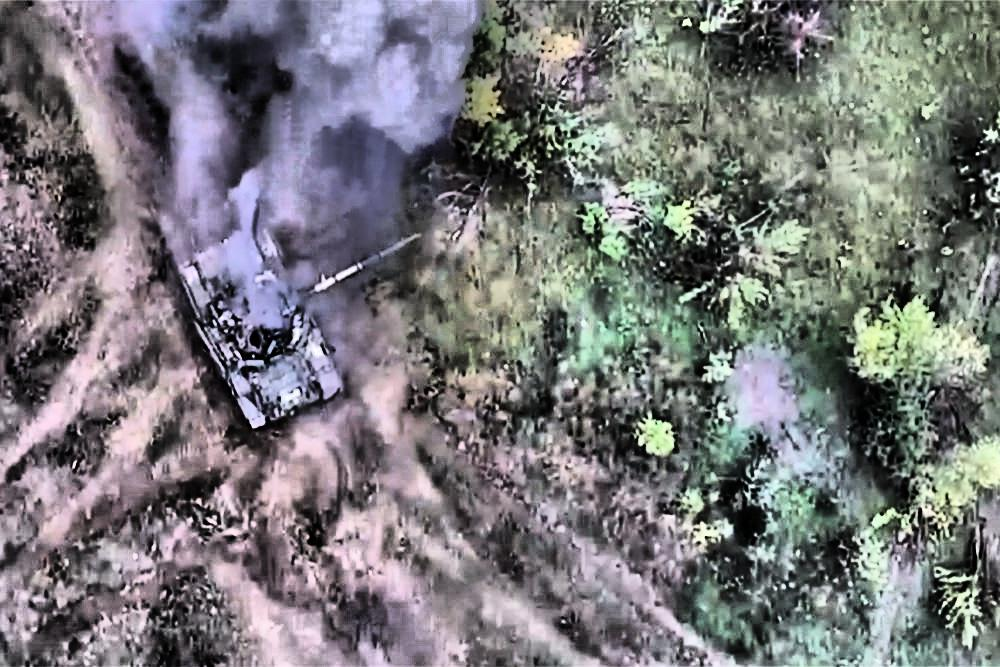military-vehicle: (181, 226, 422, 428)
